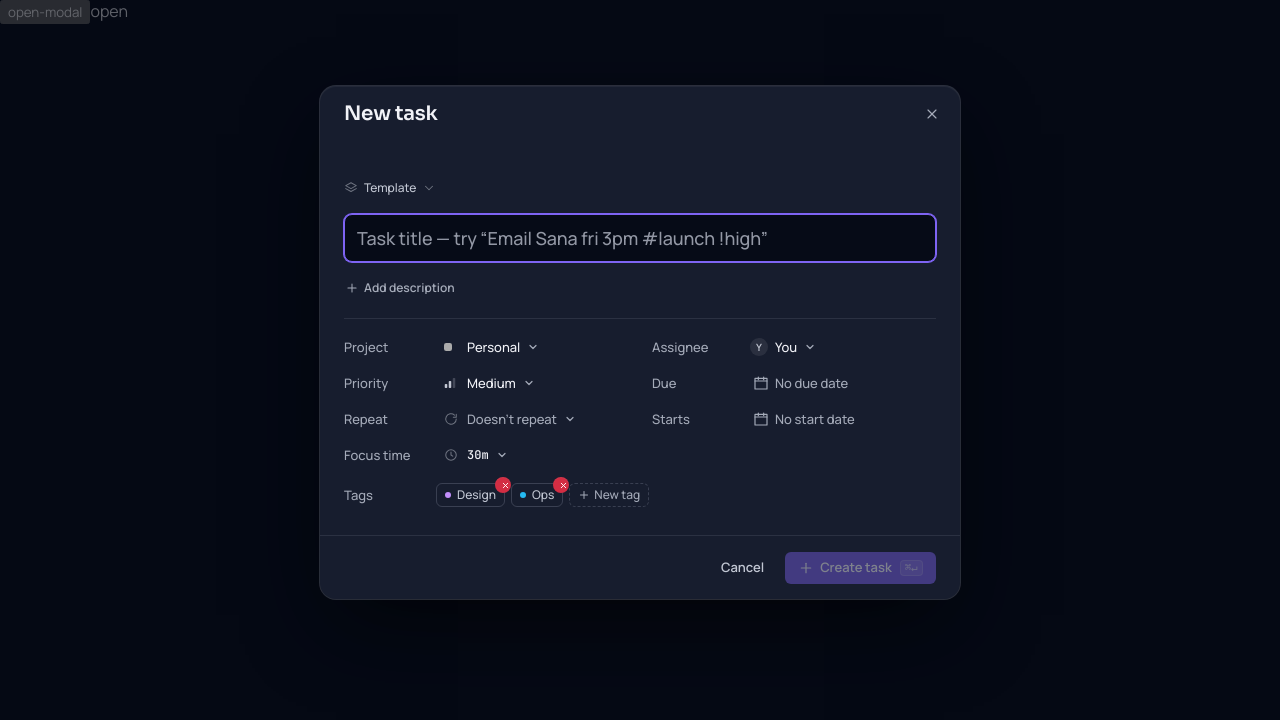
NewTaskModal › lists each built-in template exactly once, with this browser's own
Step 1. Click the button "Template" → (390, 188), box 336,174 -> 444,202
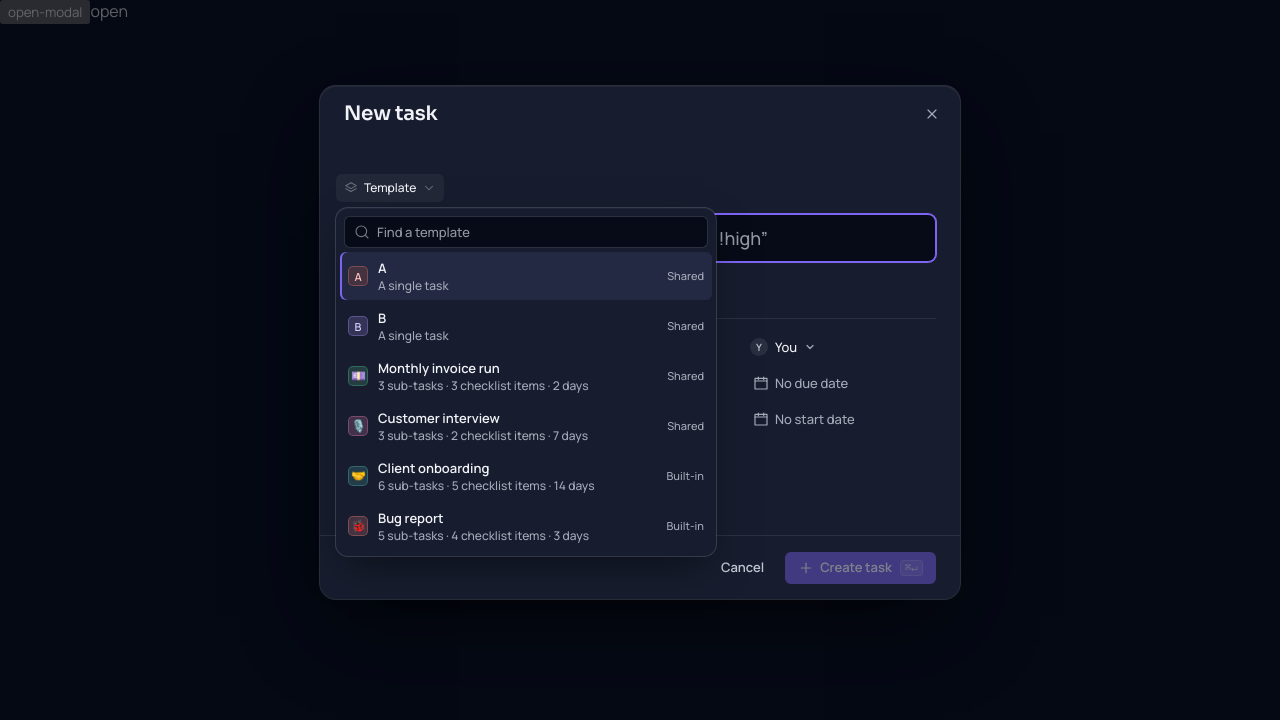
expect the option "Bug report" is shown: met, box 340,502 -> 712,550
